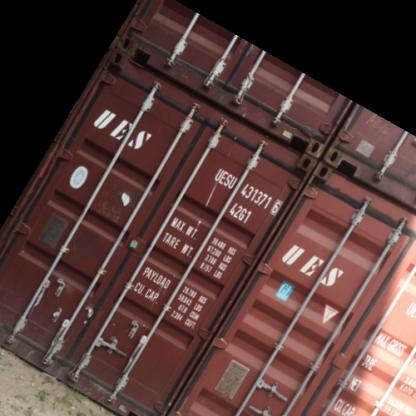Damage: (24, 335, 162, 397)
